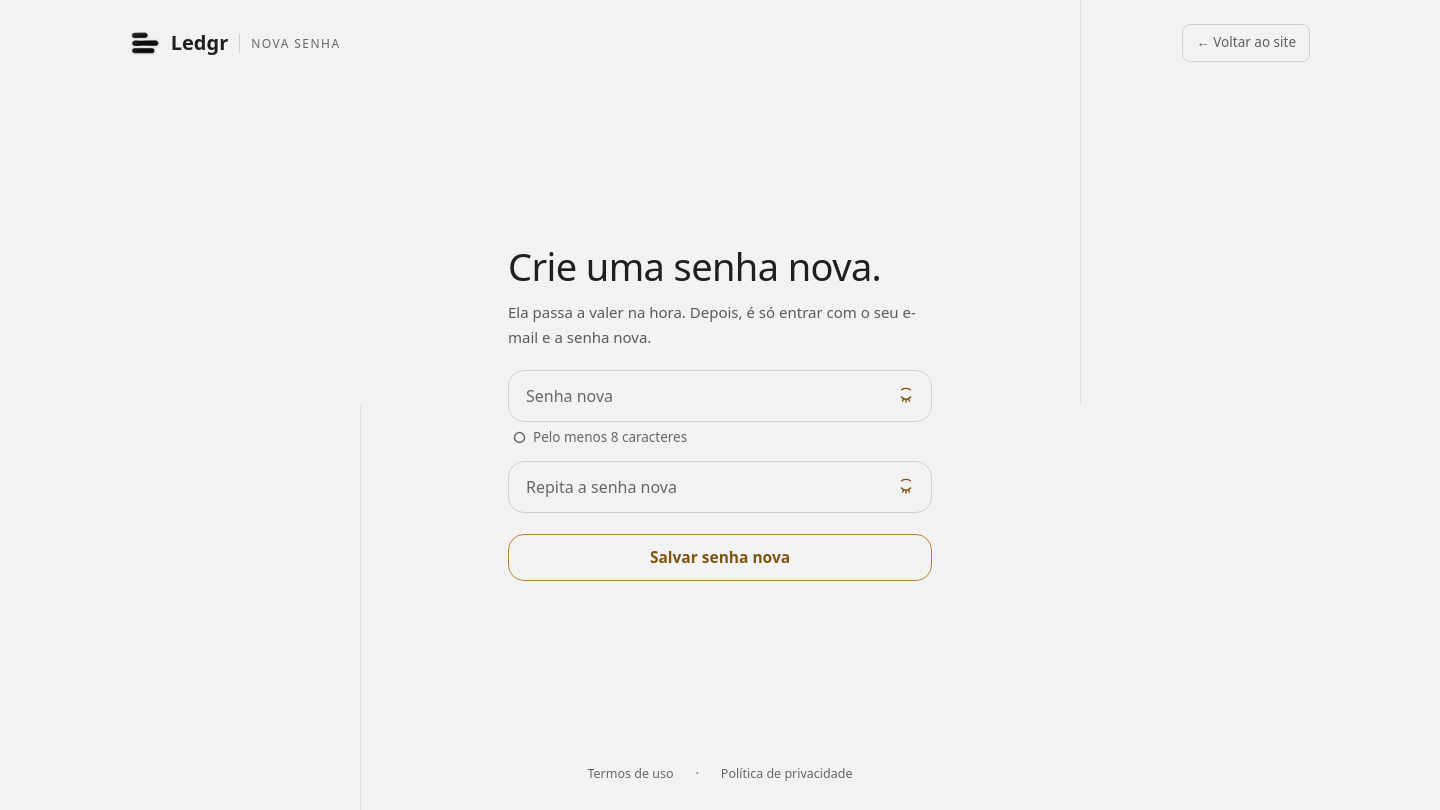
Scenario: RedefinirSenhaPage › não envia quando a senha não passa na regra (s3nha-nova-forte)
Type "s3nha-nova-forte" into the password field labelled "Senha nova" at (720, 396), box [508,370,932,422]
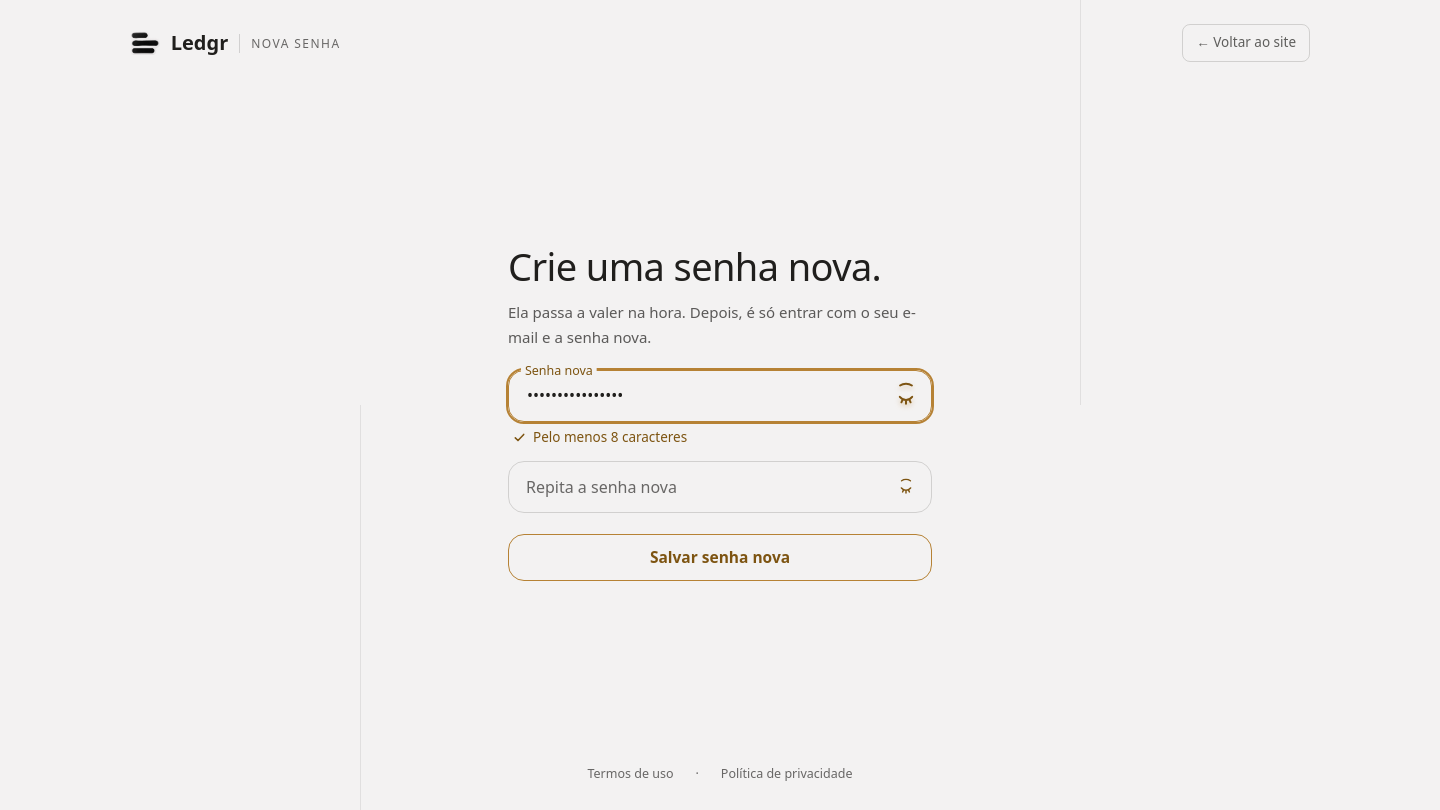
Type "s3nha-diferente" into the password field labelled "Repita a senha nova" at (720, 487), box [508,461,932,513]
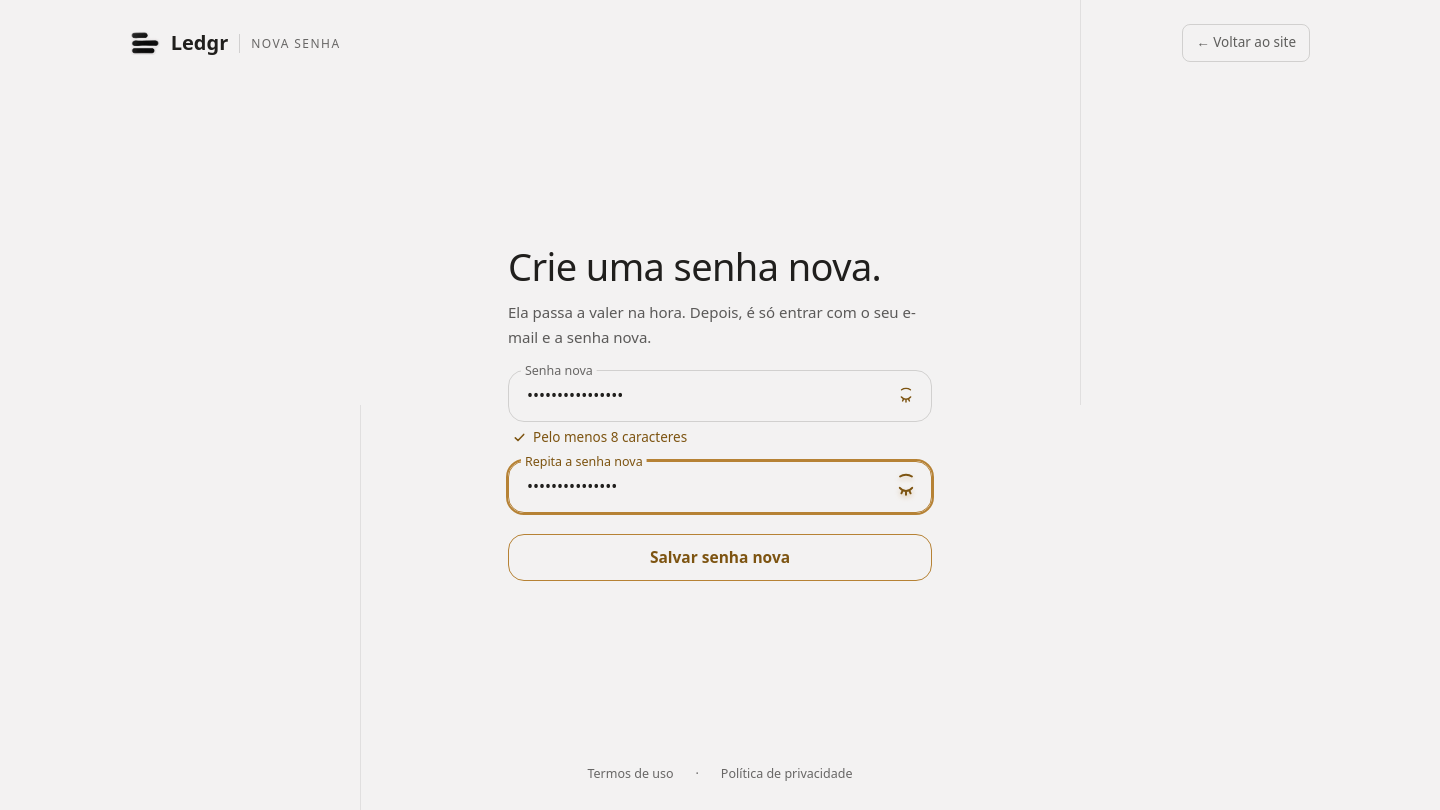
Click the button "Salvar senha nova" at (720, 557), box [508,534,932,580]
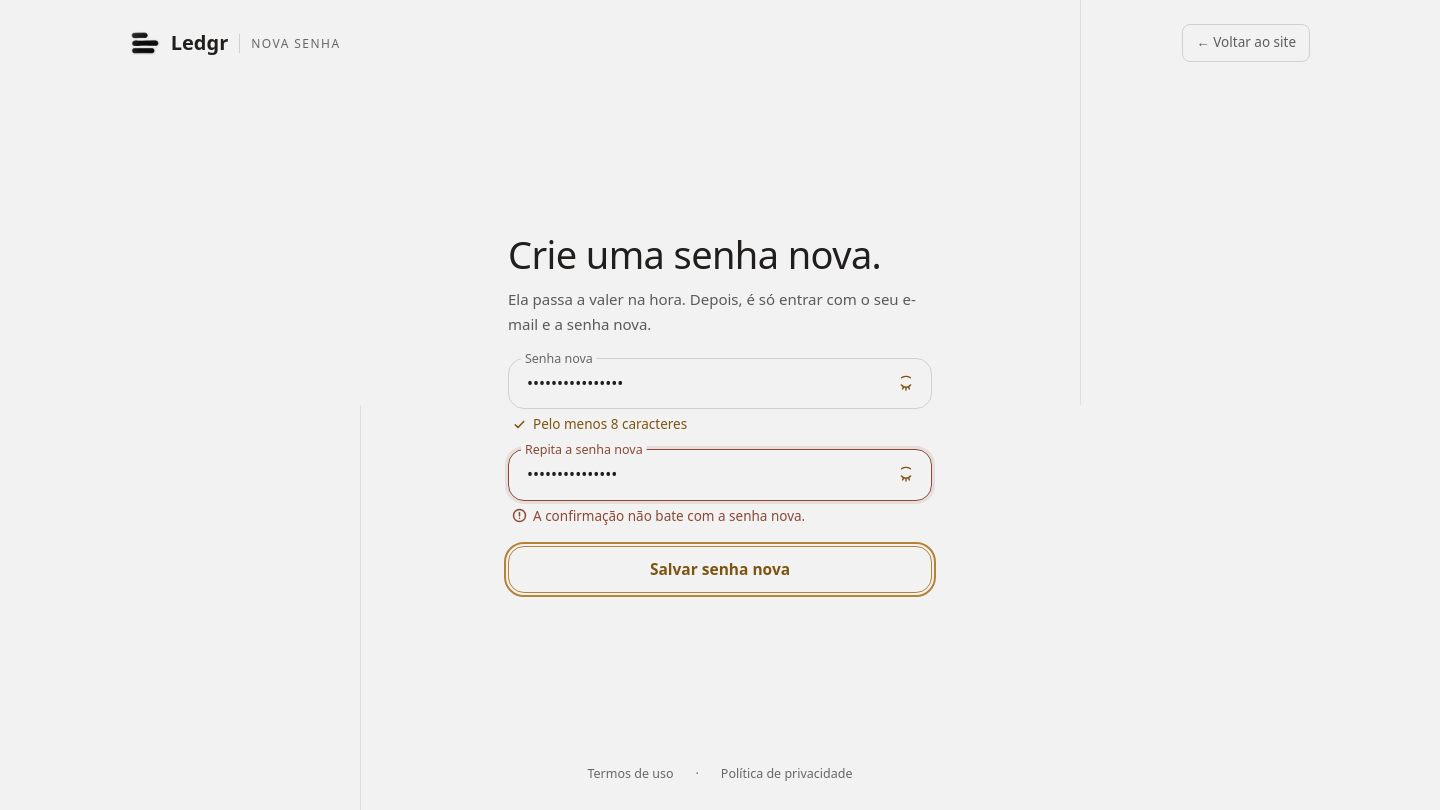
Expected: the message reads "A confirmação não bate com a senha nova.", [533,506,805,524]
